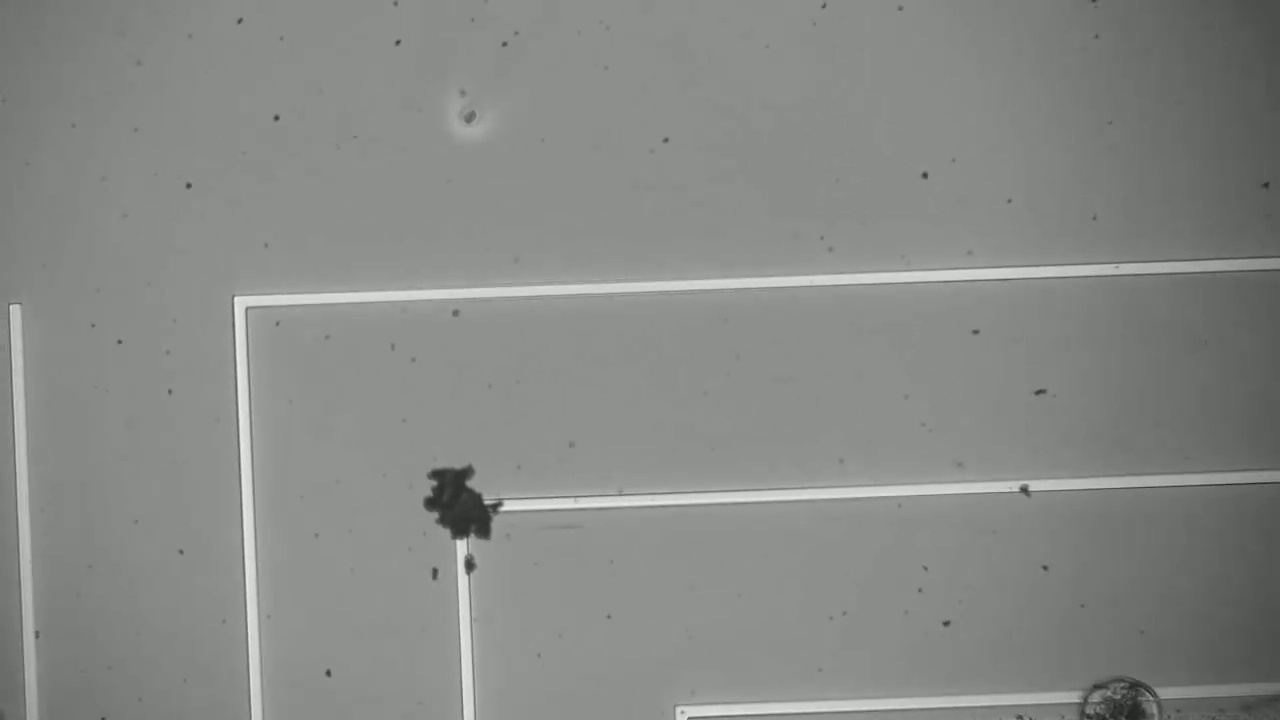stains_enbedded: (411, 456, 508, 562)
